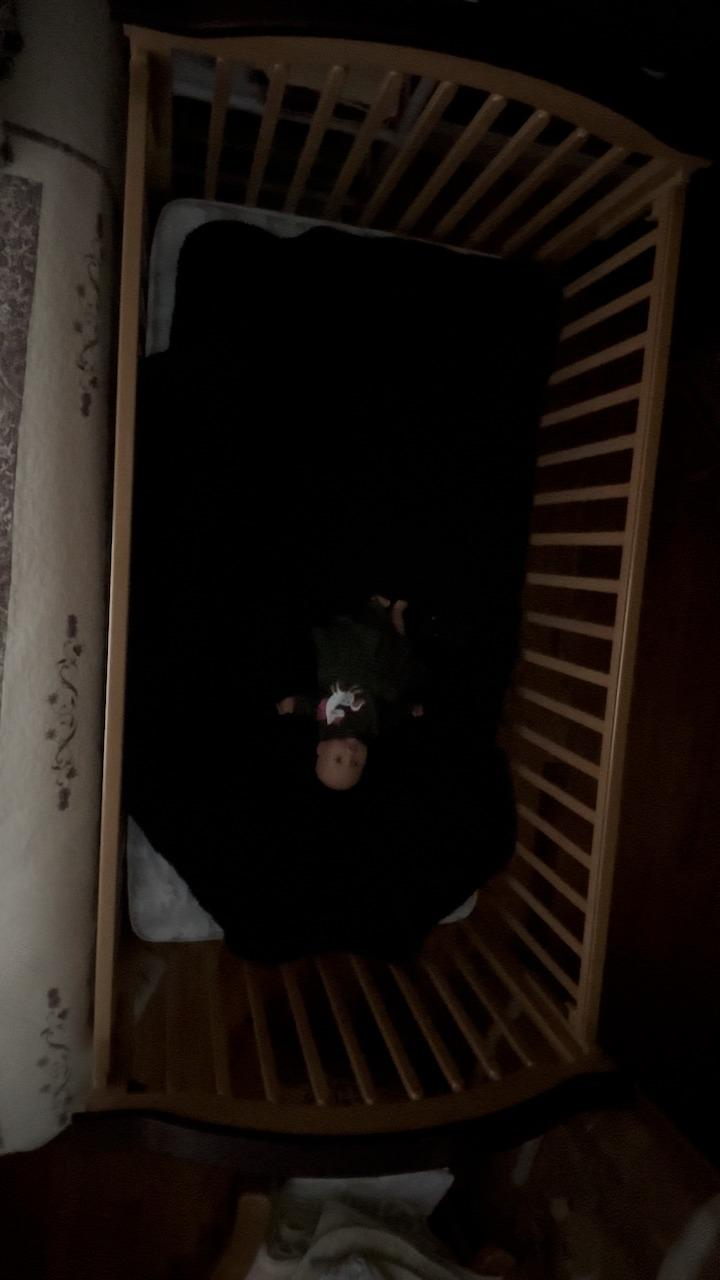baby: (276, 588, 416, 797)
